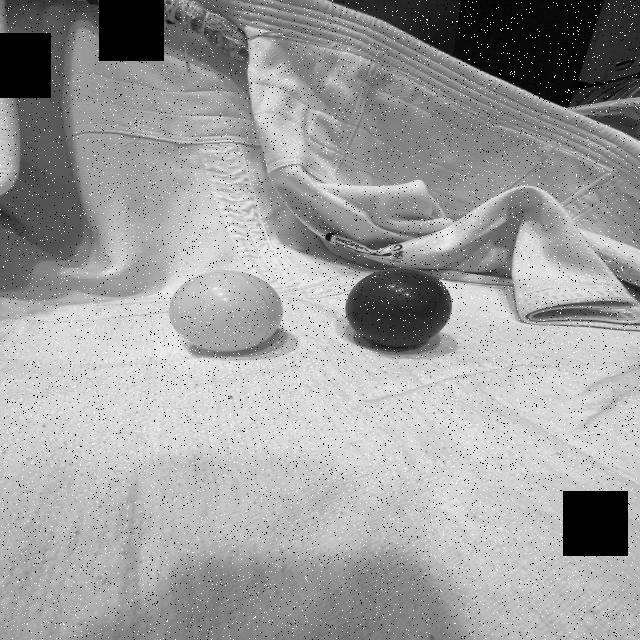ball: (165, 270, 288, 355), (342, 265, 454, 350)
